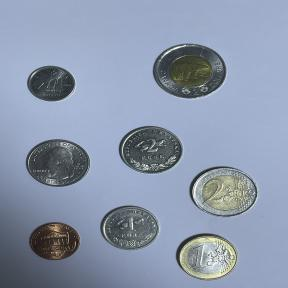coin: (150, 40, 230, 104), (186, 163, 262, 220), (114, 124, 186, 178), (23, 136, 93, 190), (174, 230, 240, 282), (25, 220, 84, 263), (24, 64, 80, 105)
